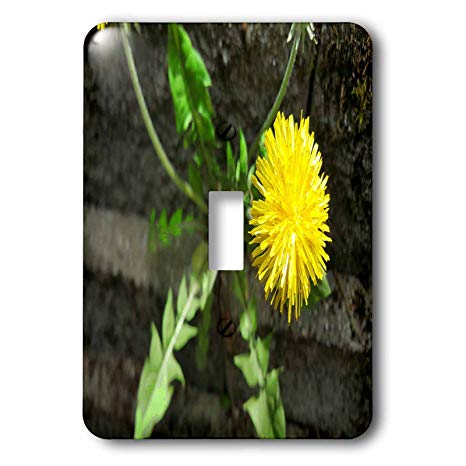dandelion: (244, 118, 332, 308)
